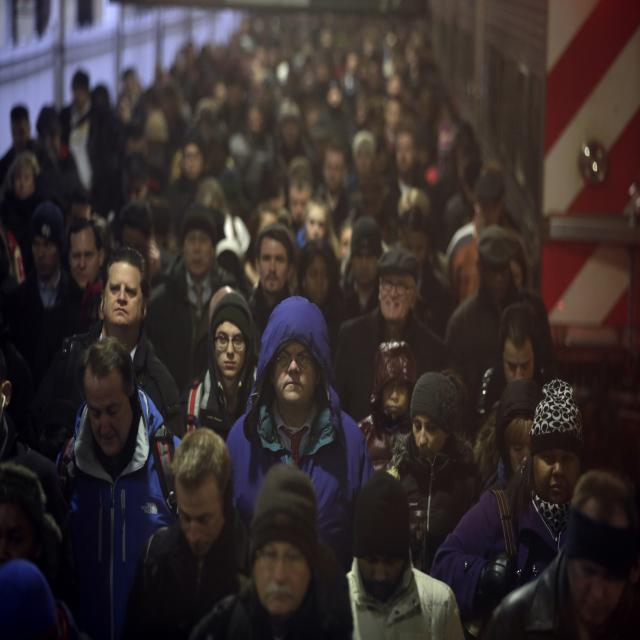body: (234, 6, 507, 290), (0, 39, 234, 288), (223, 294, 380, 578), (429, 376, 589, 640), (55, 334, 183, 640), (185, 460, 353, 640), (48, 246, 187, 457), (120, 425, 256, 640), (331, 246, 451, 429), (458, 463, 582, 640), (344, 469, 466, 640), (385, 368, 483, 578), (0, 366, 74, 640), (443, 225, 558, 388), (150, 213, 240, 399), (5, 202, 88, 394), (178, 286, 262, 444), (444, 169, 532, 309), (476, 300, 560, 439), (471, 375, 547, 502), (246, 223, 308, 371), (356, 334, 421, 474), (324, 215, 387, 336), (64, 214, 108, 338), (3, 149, 42, 280), (508, 185, 542, 302)
